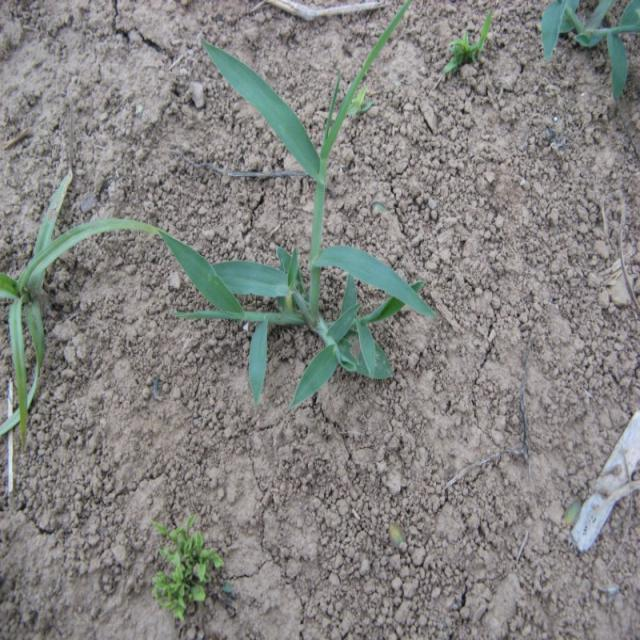bg: (167, 10, 443, 399)
